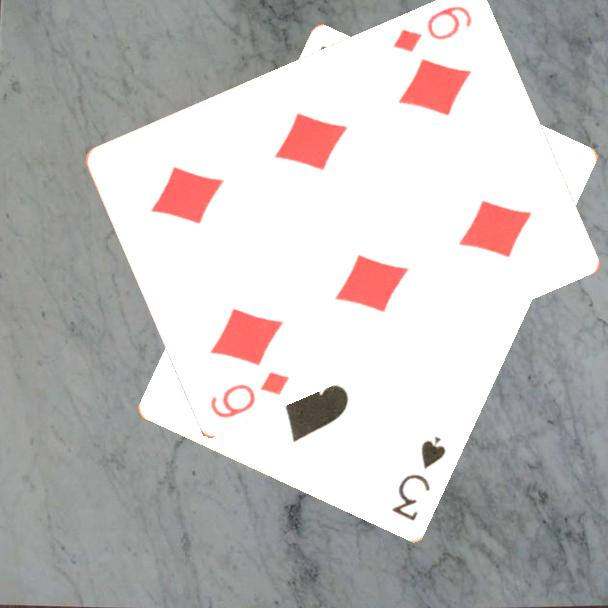d06: (206, 368, 292, 422), (389, 3, 475, 56)
s03: (388, 433, 449, 525)
